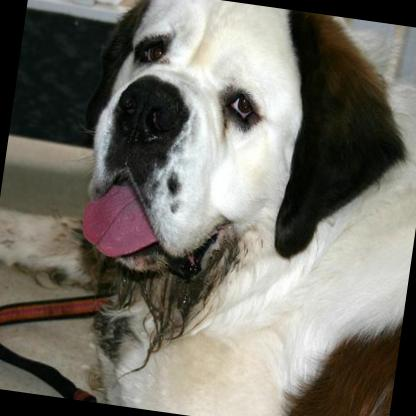Saint_Bernard: (52, 0, 416, 416)
